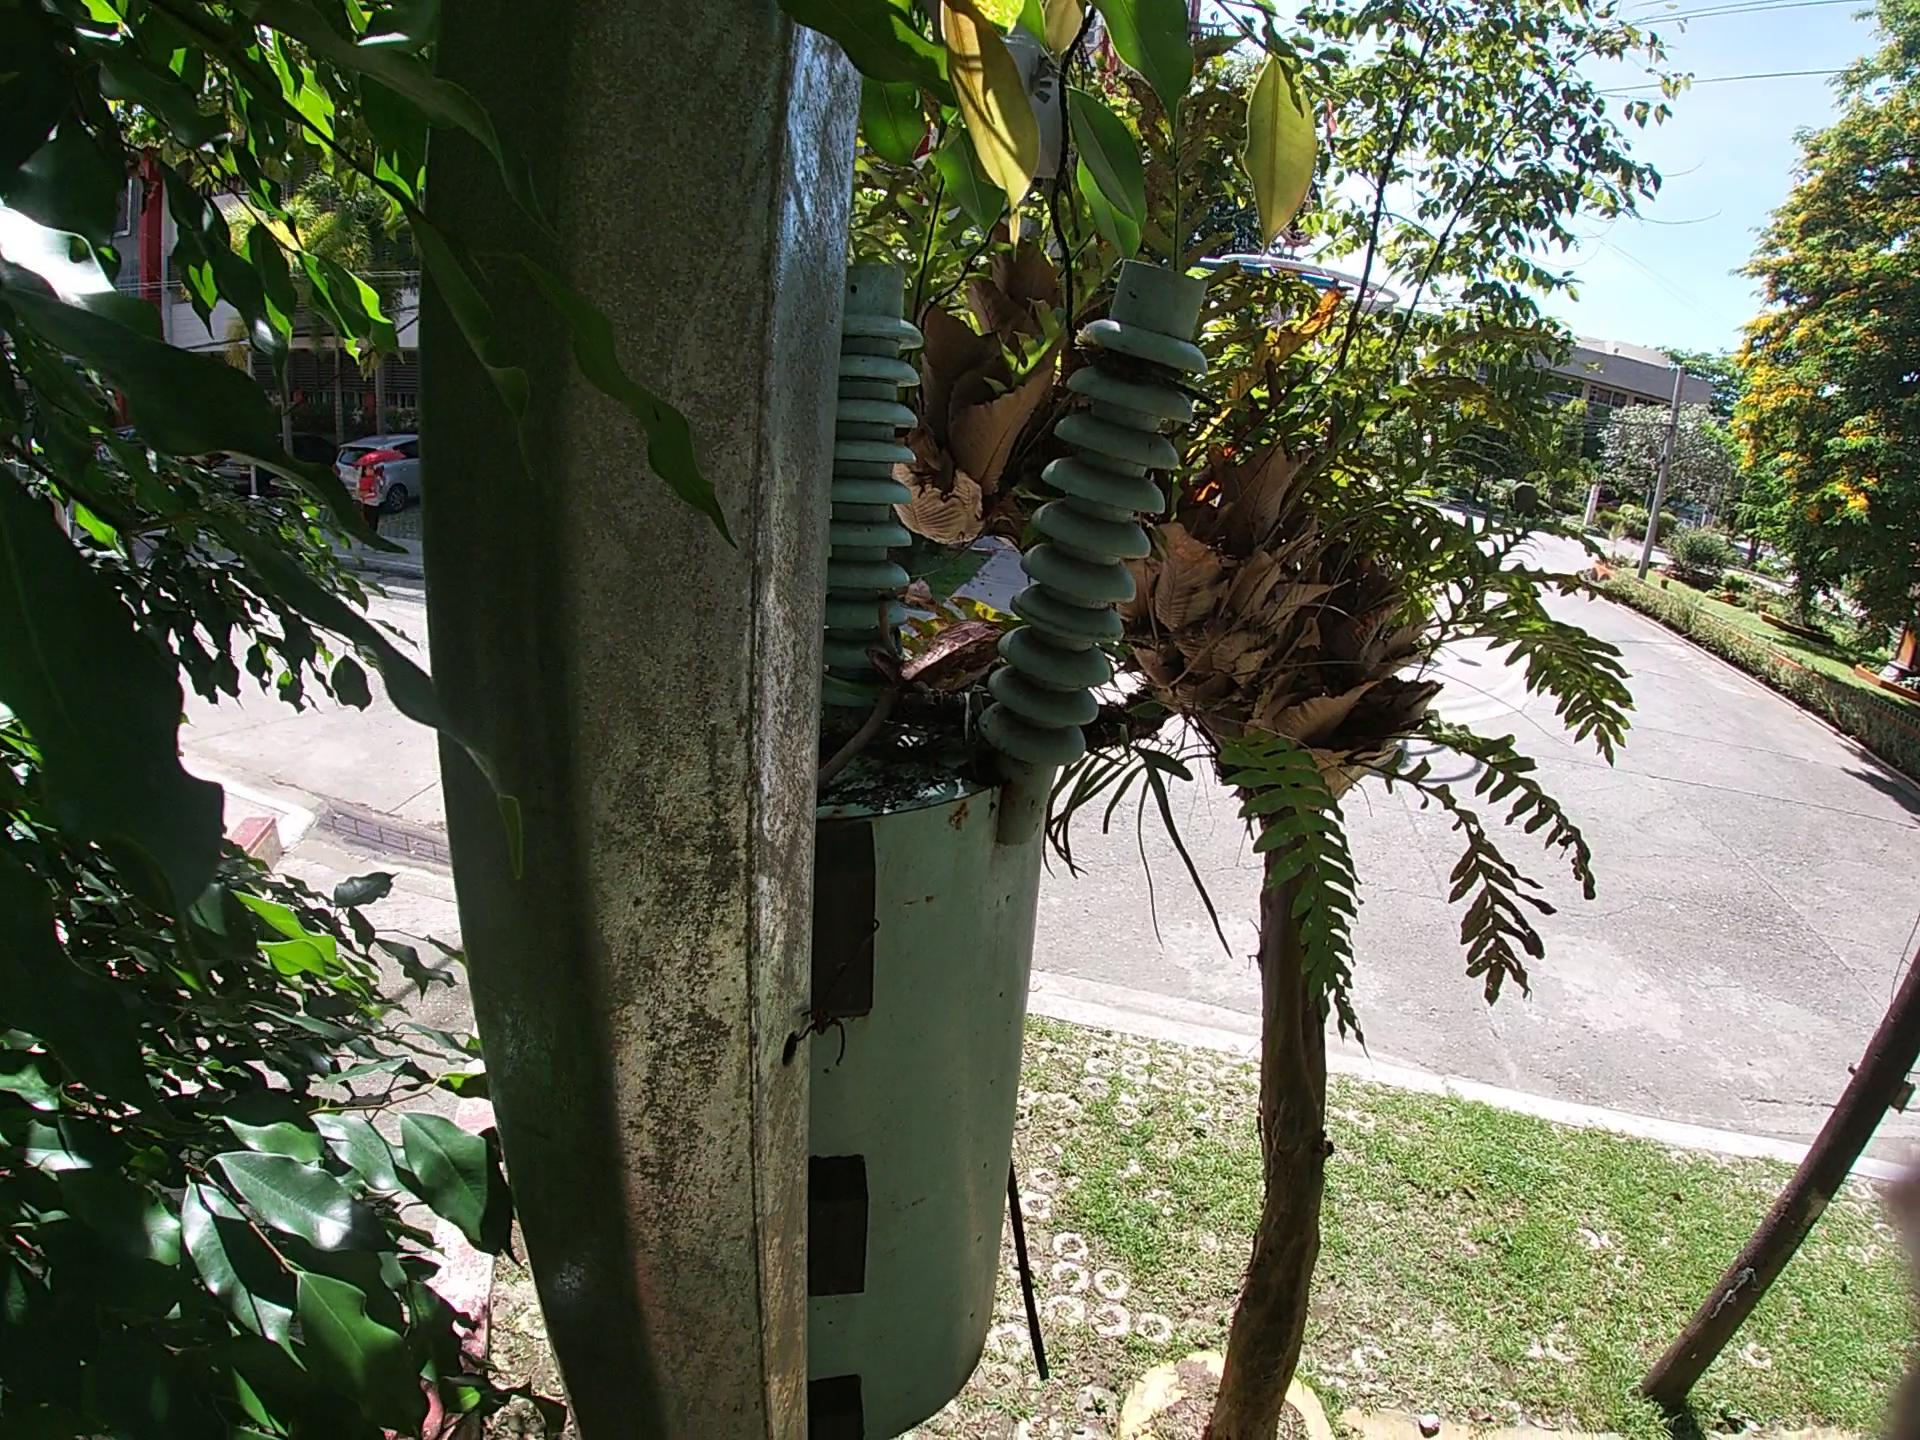branch with leaves: (821, 554, 1205, 826)
mahogany fruit: (848, 570, 983, 720), (841, 575, 848, 579)
tree branch: (650, 663, 949, 862)
